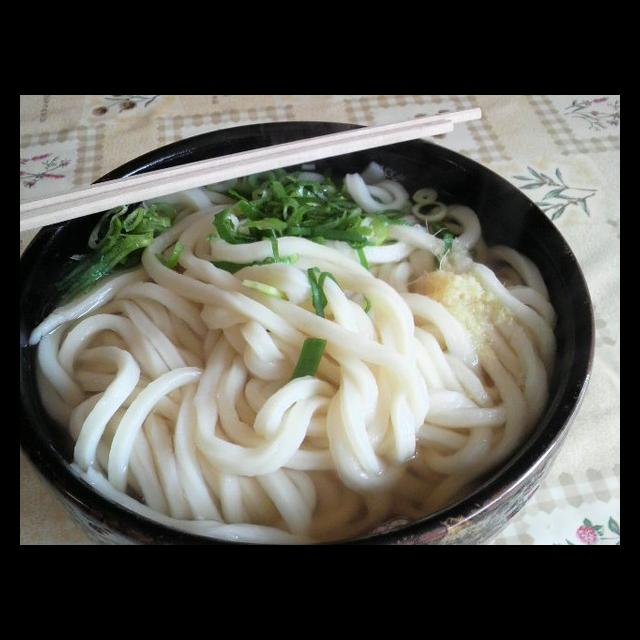noodles: (29, 157, 560, 542)
